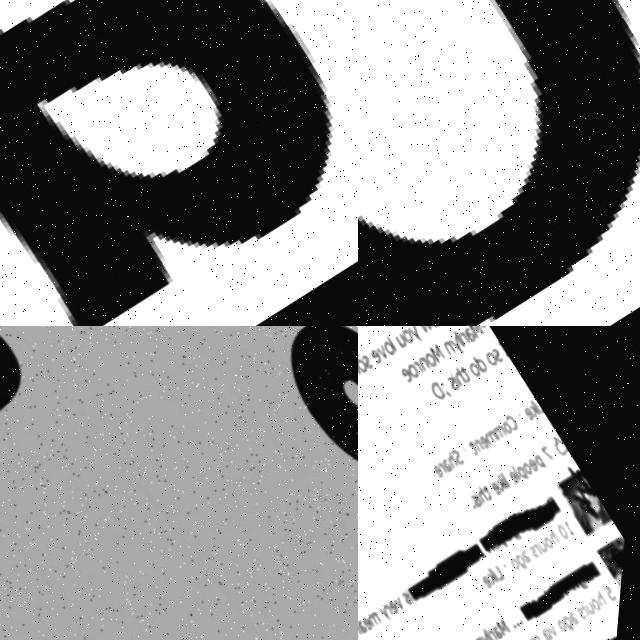0: (235, 326, 358, 519)
1: (604, 572, 622, 592)
3: (540, 435, 557, 454)
A: (0, 0, 358, 326), (359, 612, 375, 630), (570, 599, 586, 617), (522, 538, 537, 555), (442, 449, 456, 465), (544, 617, 558, 633), (496, 615, 509, 630), (461, 326, 477, 335)
B: (518, 627, 535, 640)
C: (504, 403, 522, 423)
D: (427, 372, 449, 395), (470, 343, 490, 365)
E: (481, 562, 499, 581), (368, 340, 385, 359), (398, 358, 415, 377), (490, 470, 507, 489), (477, 424, 493, 442), (432, 454, 448, 472), (527, 446, 543, 464), (507, 458, 523, 476), (391, 591, 407, 609), (365, 608, 381, 626), (522, 396, 537, 413)
G: (565, 603, 582, 622), (517, 543, 532, 560)
H: (450, 358, 468, 378), (548, 517, 565, 537), (596, 578, 612, 596), (476, 478, 491, 495), (445, 443, 460, 459)
I: (495, 331, 509, 348), (449, 363, 462, 380), (492, 556, 505, 573), (499, 464, 512, 480), (532, 390, 544, 405), (475, 481, 487, 496), (407, 580, 419, 595), (488, 618, 500, 633), (548, 615, 560, 630), (453, 326, 466, 338), (517, 633, 529, 640)
K: (486, 558, 503, 577), (494, 466, 509, 483), (527, 392, 542, 408)
L: (494, 555, 509, 572), (386, 328, 399, 345), (501, 462, 514, 479), (533, 388, 546, 404), (450, 326, 465, 339), (511, 455, 523, 470), (487, 619, 498, 634), (514, 634, 526, 640)
M: (369, 601, 389, 621), (483, 418, 502, 438), (428, 336, 447, 356), (498, 607, 517, 627), (531, 621, 550, 640), (492, 414, 509, 432), (463, 628, 483, 640)
N: (440, 330, 457, 349), (416, 348, 431, 365), (473, 429, 487, 445), (478, 625, 491, 640), (358, 613, 368, 631)
O: (358, 0, 640, 326), (403, 354, 422, 373), (381, 331, 398, 351), (422, 342, 439, 361), (483, 341, 500, 360), (467, 352, 484, 371), (501, 409, 517, 427), (521, 450, 537, 468), (591, 584, 607, 602), (544, 524, 559, 541), (511, 546, 526, 563), (559, 606, 574, 623), (525, 626, 541, 640), (358, 348, 369, 367), (398, 326, 415, 337), (461, 636, 476, 640)
P: (516, 455, 533, 473), (533, 444, 549, 462)
R: (411, 350, 425, 366), (386, 595, 400, 611), (533, 531, 547, 547), (582, 593, 595, 608), (438, 453, 451, 467), (492, 619, 504, 632), (456, 326, 470, 337)
S: (451, 439, 468, 458), (359, 346, 375, 364), (488, 337, 504, 355), (445, 367, 461, 385), (530, 534, 545, 551), (577, 595, 591, 611), (471, 484, 484, 500), (405, 584, 418, 599)
T: (458, 356, 473, 374), (467, 430, 482, 447), (482, 476, 496, 491)
U: (392, 326, 409, 342), (538, 528, 552, 544), (587, 590, 601, 606)
V: (373, 336, 391, 355), (397, 588, 412, 605), (550, 612, 565, 628)
Y: (447, 326, 466, 348), (382, 598, 399, 617), (404, 326, 427, 339), (483, 623, 500, 640)
